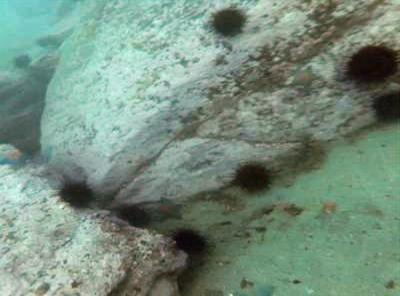urchin: (347, 42, 400, 85), (237, 159, 275, 197), (58, 177, 96, 209), (170, 226, 210, 254), (212, 7, 249, 37), (373, 87, 400, 120), (118, 204, 152, 229)
